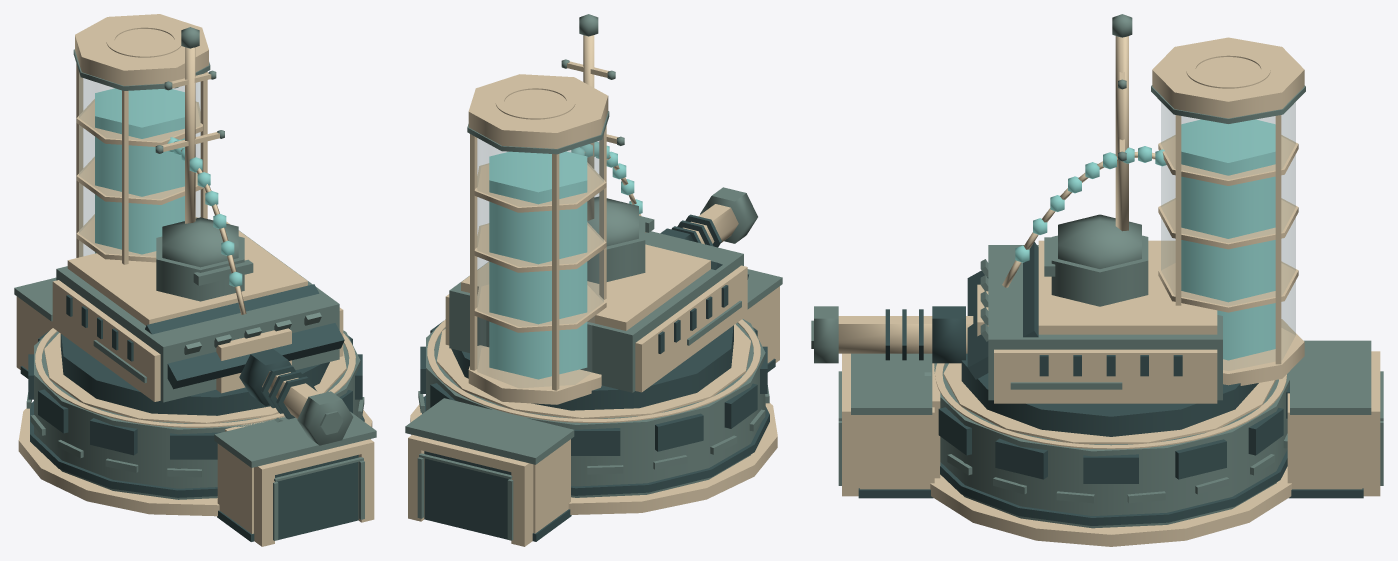
File: Machinegoon_T1.glb
The picture shows the model from 3 angles, left to right: view 1: azimuth 30°, elevation 25°; view 2: azimuth 150°, elevation 25°; view 3: azimuth 270°, elevation 25°; orthographic projection. The views are drawn at different scales.
Parts seen in each view (by area): view 1: Machinegoon_T1_Turret, Machinegoon_T1_Base, CapNeon; view 2: Machinegoon_T1_Turret, Machinegoon_T1_Base, CapNeon; view 3: Machinegoon_T1_Turret, Machinegoon_T1_Base, CapNeon.
Boxes of the visible parts, x1,y1,x2,y2 form: Machinegoon_T1_Turret: [52, 14, 353, 445]; Machinegoon_T1_Base: [14, 277, 376, 546]; CapNeon: [35, 24, 355, 427]; Machinegoon_T1_Turret: [445, 14, 757, 410]; Machinegoon_T1_Base: [405, 269, 782, 546]; CapNeon: [427, 84, 760, 423]; Machinegoon_T1_Turret: [811, 14, 1305, 436]; Machinegoon_T1_Base: [838, 340, 1383, 546]; CapNeon: [935, 52, 1286, 449].
Bounding box in the file's own units: 3.5 × 4.47 × 5.13.
